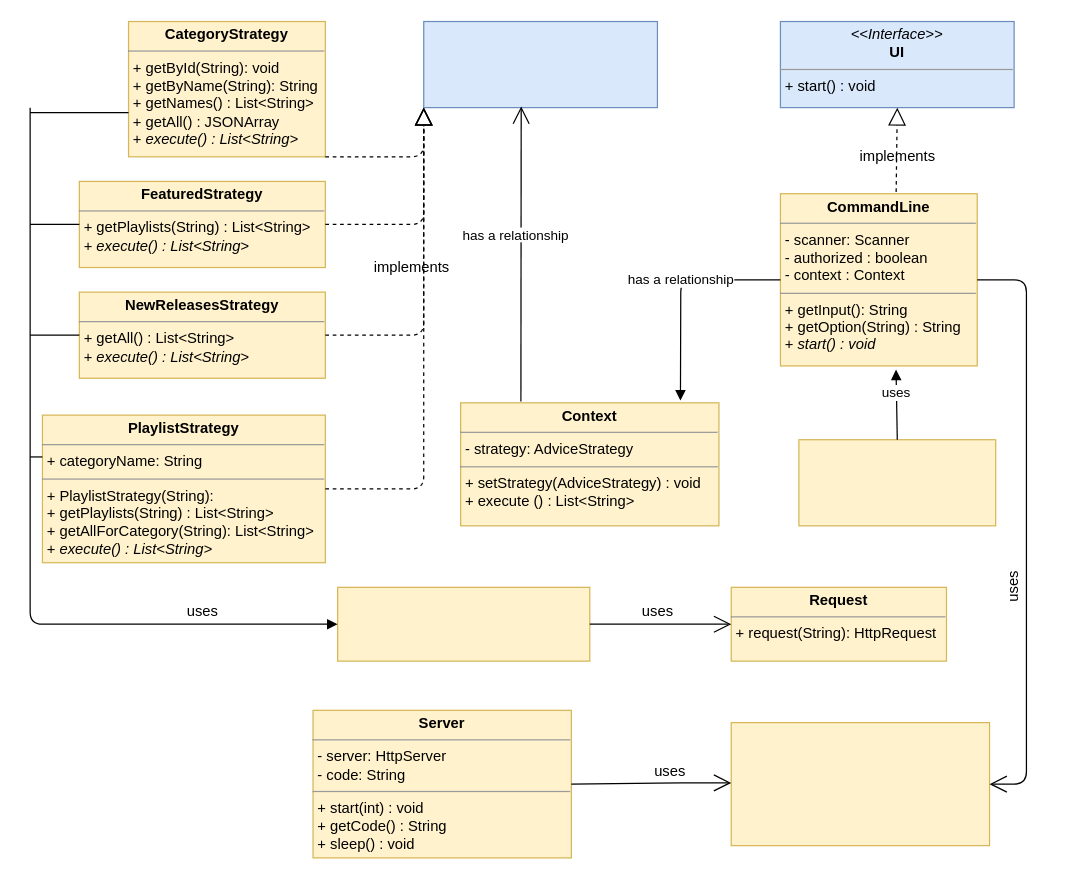
Image size: 1065x879. Some labels were removed from this diagram. Each missing label, with the centre of its shape:
<<Interface>> AdviceStrategy + execute (String): List: the point at 540,64
Api + get(String): HttpResponse<String>: the point at 463,623
Authorization - port: int + authorize() : boolean + execute () : List<String>: the point at 860,783
Main + main(String[]): void: the point at 897,482
